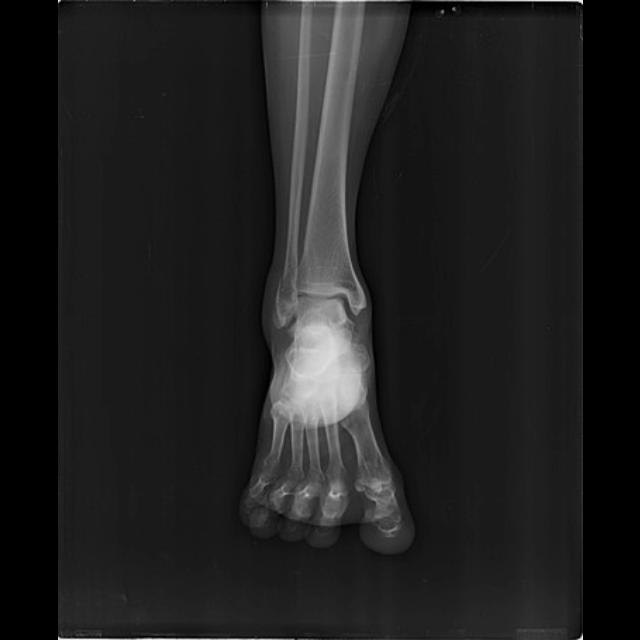fractured: (275, 269, 298, 302)
